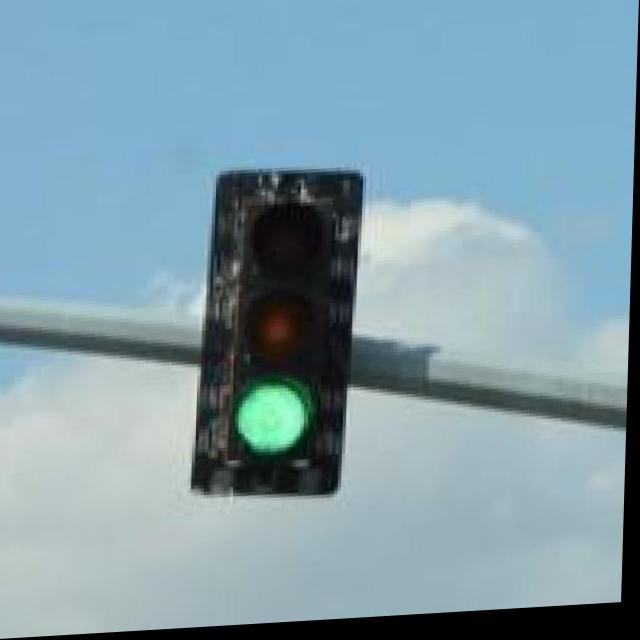green light: (234, 205, 334, 474)
